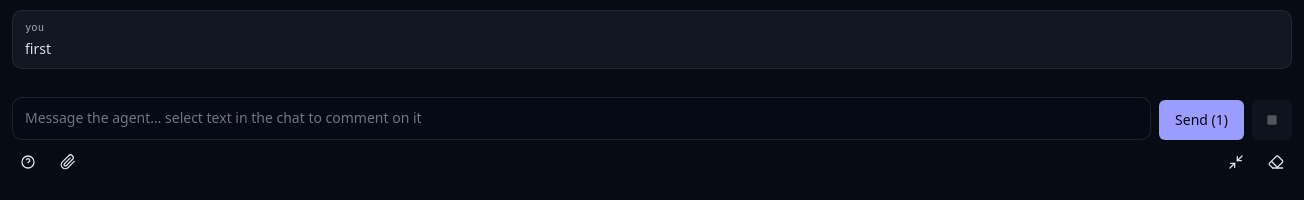
Test: offline keeps the draft and the pending comments and shows the notice
The image size is (1304, 200).
In the text box: (582, 118) [12,97,1151,140], type "keep"
Then press Enter
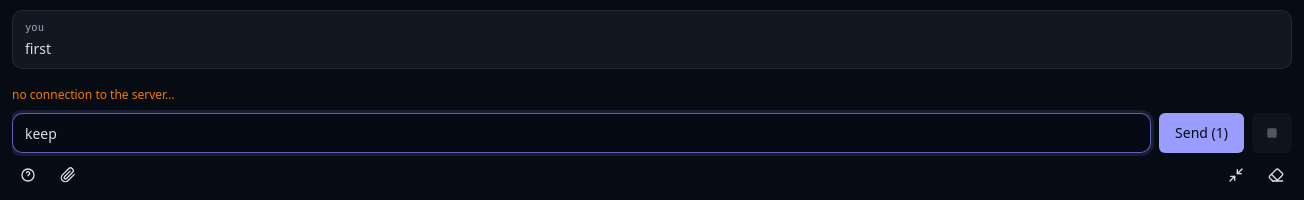
Expected: the button "Send (1)" is shown, [1159,113,1244,153]
Expected: the text "no connection to the server…" is shown, [12,87,175,103]
